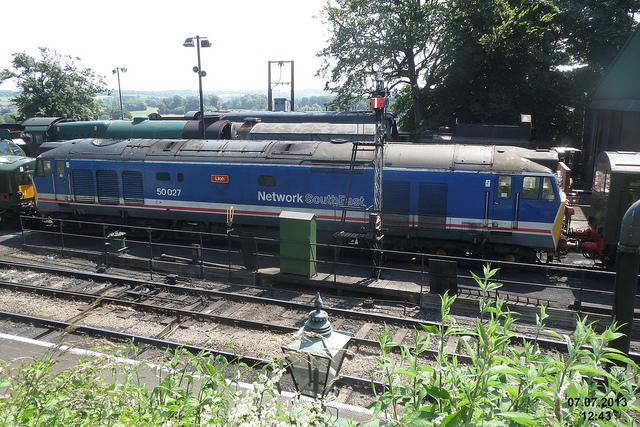Train: (35, 139, 579, 259), (0, 116, 381, 158), (579, 144, 640, 274)
